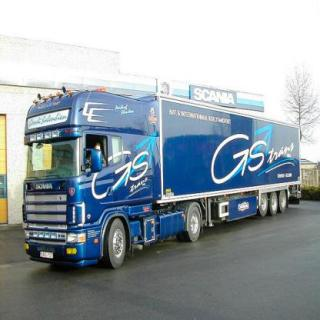Normal_vehicle: (18, 88, 304, 272)
